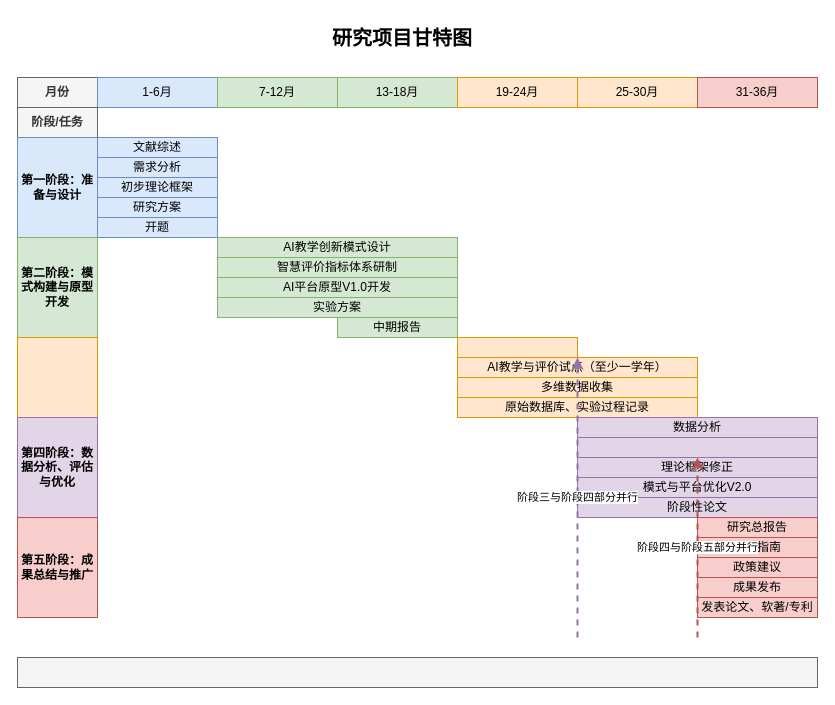
This 835x705 diagram has some shape labels left out. Each missing label, with the box of its shape:
合作院校教师培训: (456, 336, 578, 358)
效果评估: (576, 436, 818, 458)
研究进度保障：通过例会、阶段目标、责任人、多方协同、风险预案等确保研究顺利推进: (16, 656, 818, 688)
第三阶段：实践应用与数据采集: (16, 336, 98, 418)
